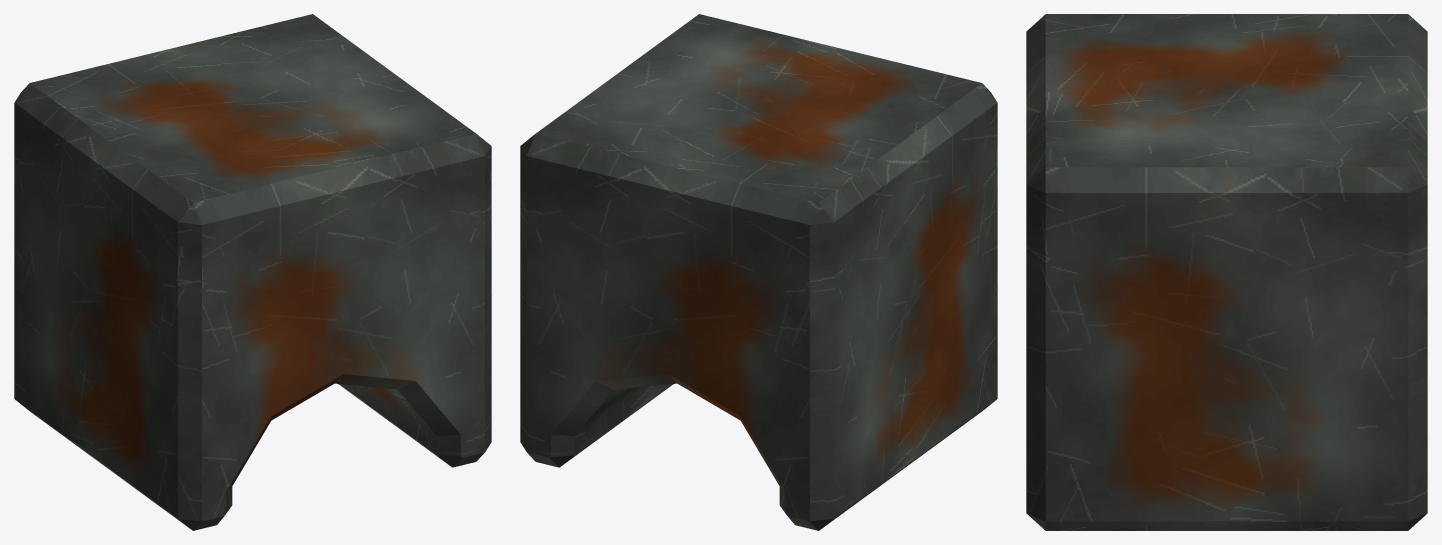
File: R4B_Arch_LOD1.glb
3 views of the same model, side by side, from view 1: azimuth 30°, elevation 25°; view 2: azimuth 150°, elevation 25°; view 3: azimuth 270°, elevation 25° (orthographic). The views are drawn at different scales.
Visible parts, largest first — view 1: R4B_Arch_LOD1; view 2: R4B_Arch_LOD1; view 3: R4B_Arch_LOD1.
Part boxes in pixels (x1,y1,x2,y2): R4B_Arch_LOD1: (14, 14, 491, 530); R4B_Arch_LOD1: (520, 14, 997, 530); R4B_Arch_LOD1: (1026, 14, 1427, 530).
Bounding box in the file's own units: 0.52 × 0.52 × 0.52.
1 material, 1 textured.
